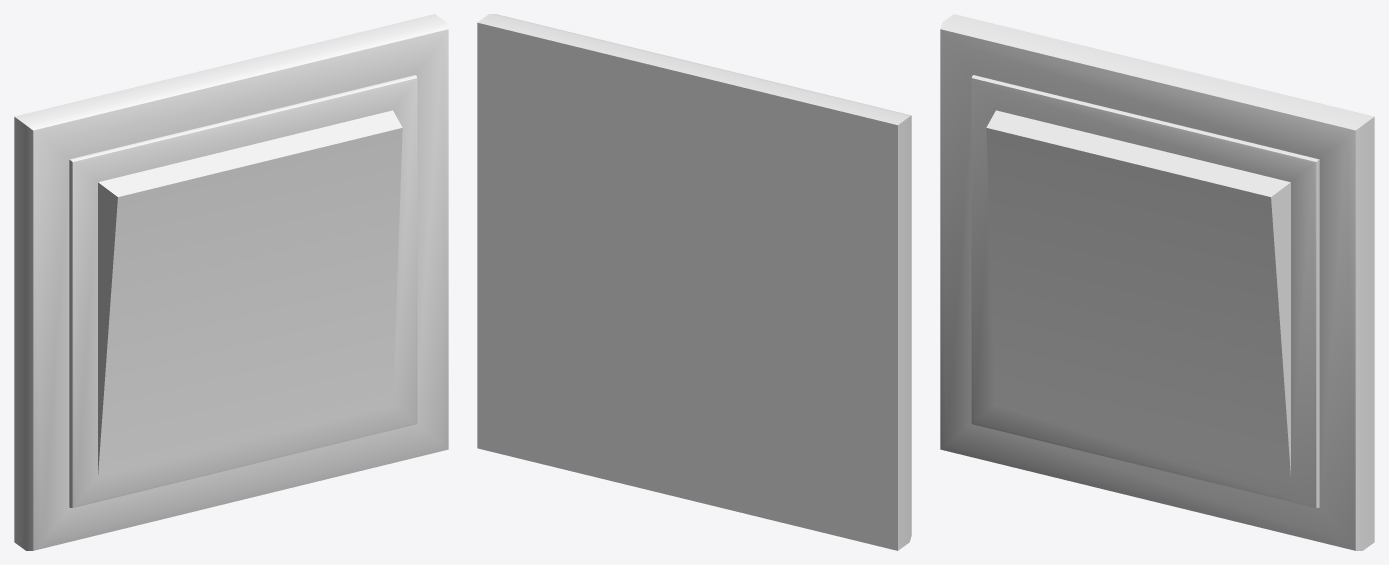
The model's file is Switch.fbx.
3 renders of one model, left to right at view 1: azimuth 30°, elevation 25°; view 2: azimuth 150°, elevation 25°; view 3: azimuth 330°, elevation 25°, orthographic.
Parts seen in each view (by area): view 1: switch; view 2: switch; view 3: switch.
Part boxes in pixels (bbox=[...]): switch: bbox=[14, 14, 448, 550]; switch: bbox=[477, 14, 911, 550]; switch: bbox=[940, 14, 1374, 550].
Bounding box in the file's own units: 82.13 × 79.44 × 12.06.
Materials: 1 (1 with a texture image).
